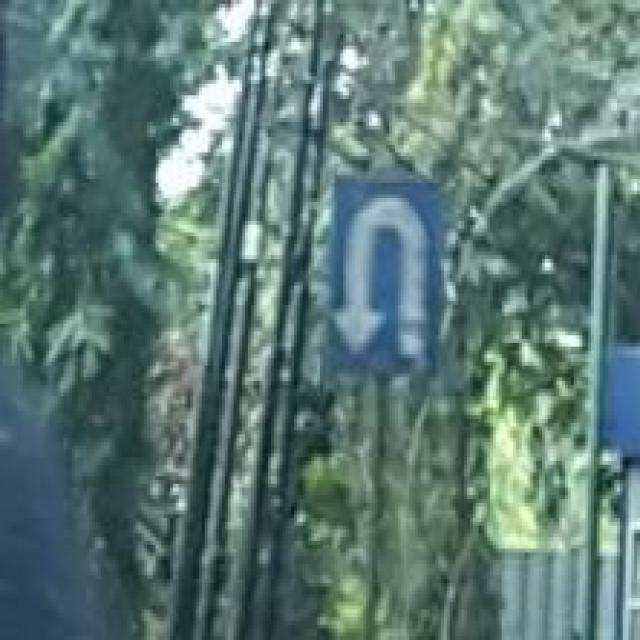U-turn: (328, 177, 444, 375)
